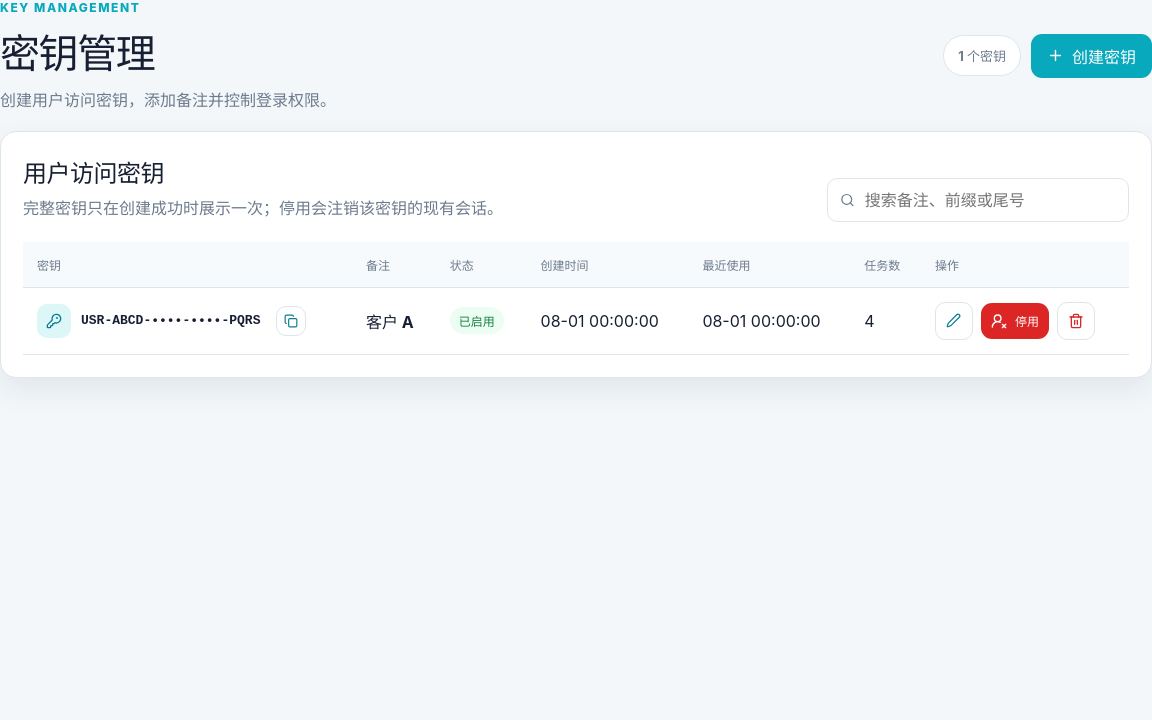
AdminUsersPage › requires confirmation before deleting a key
Click the button named "删除 客户 A".
click(1076, 321)  # box [1057,302,1095,340]
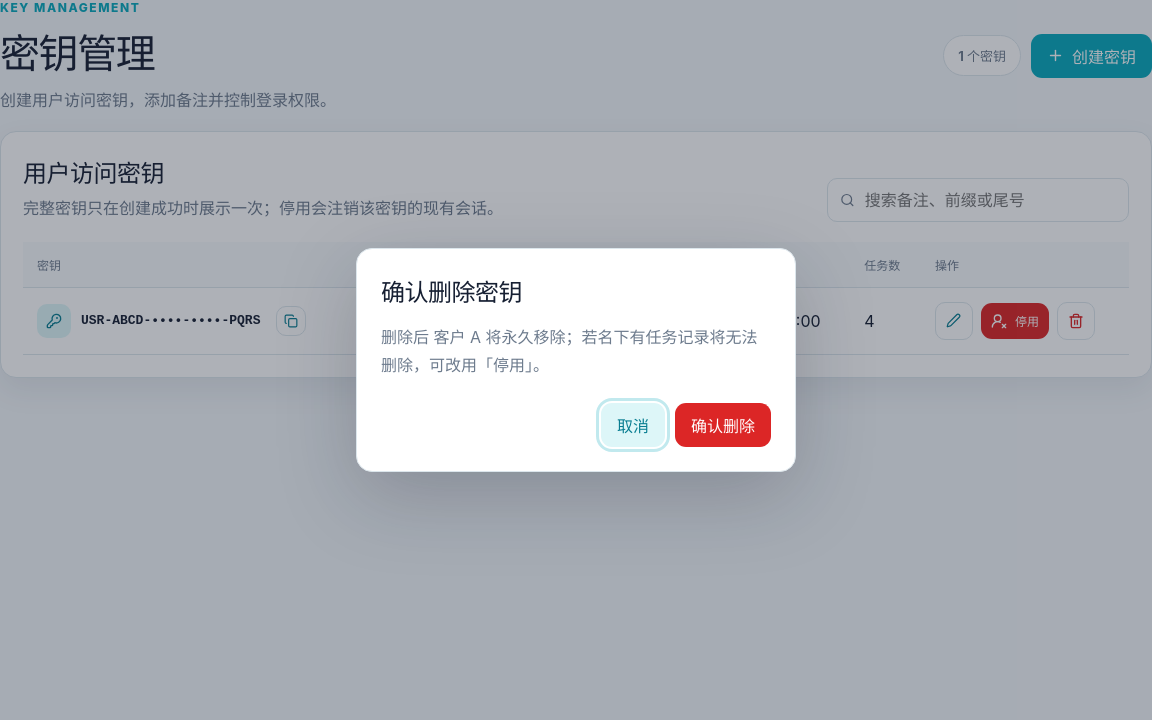
expect the dialog is shown: met, box [356,248,796,472]
Click the button "确认删除".
click(723, 425)  # box [675,403,771,447]
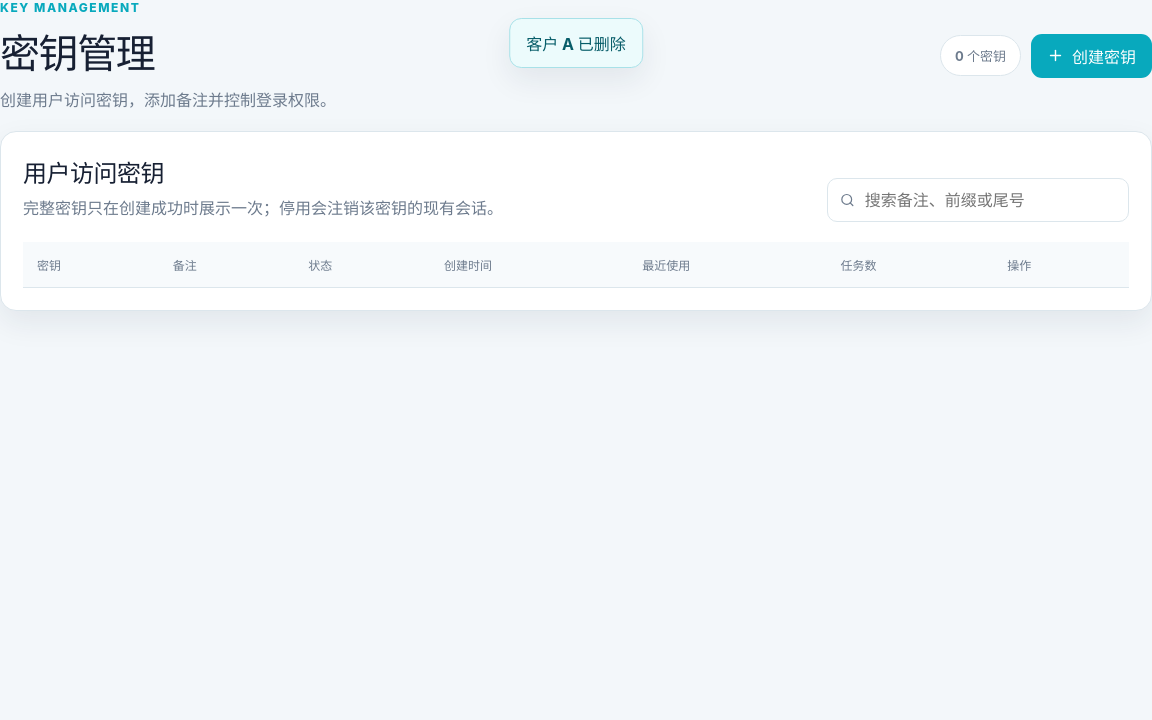
expect the text "客户 A 已删除" is shown: met, box [509,18,643,68]
